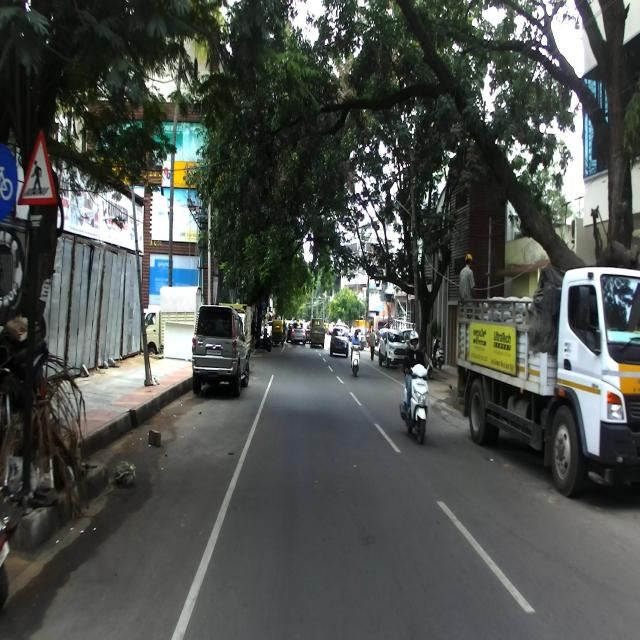car: (191, 302, 250, 399), (329, 326, 349, 358)
scooter: (398, 355, 429, 445)
truck: (456, 264, 640, 498)
